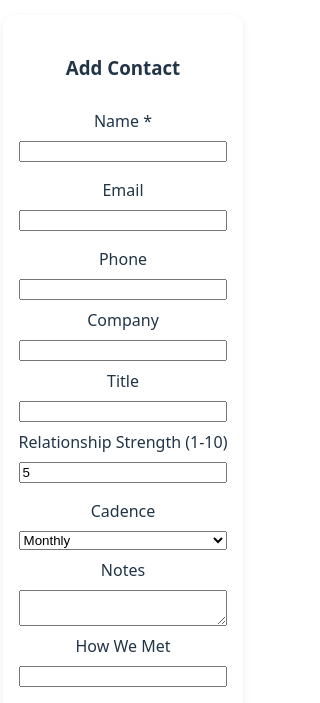
Test: AddContactForm › submits successfully and resets form
Type "Test User" into the field labelled "Name *" at point(123, 151), box top-left (19, 140), bottom-right (228, 162)
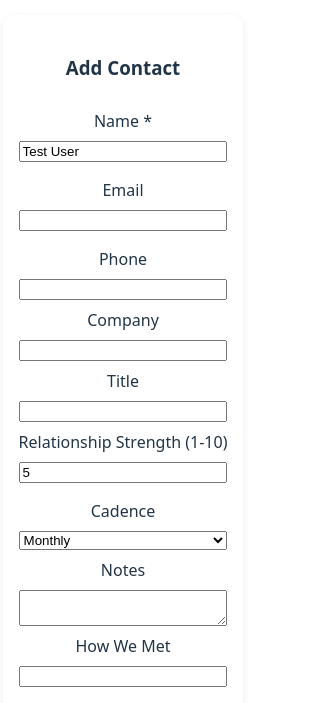
Type "test@example.com" into the field labelled "Email" at point(123, 220), box top-left (19, 210), bottom-right (228, 230)
(page scrolled)
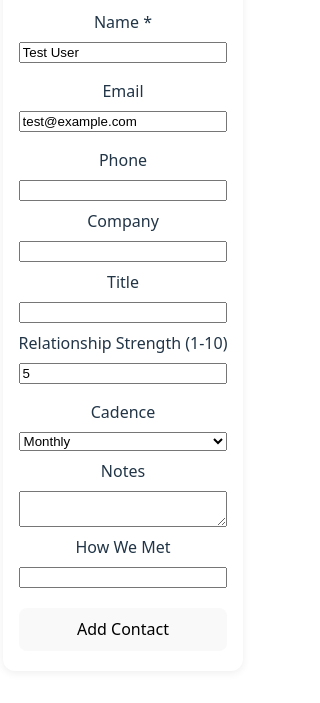
Click the button "Add Contact" at point(123, 629), box top-left (19, 608), bottom-right (228, 651)
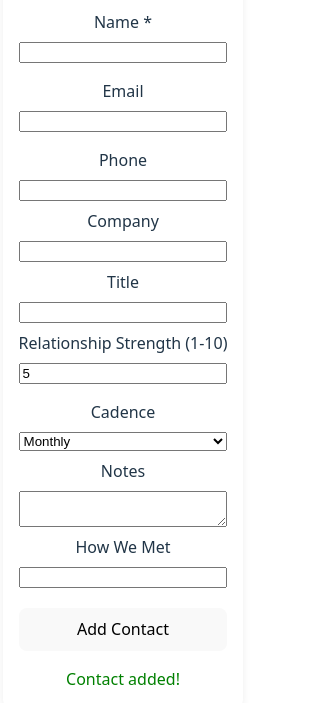
Expected: the message shows "Contact added", top-left (66, 668), bottom-right (180, 690)
Expected: the field labelled "Name *" is empty, top-left (19, 42), bottom-right (228, 62)
Expected: the field labelled "Email" is empty, top-left (19, 110), bottom-right (228, 132)
